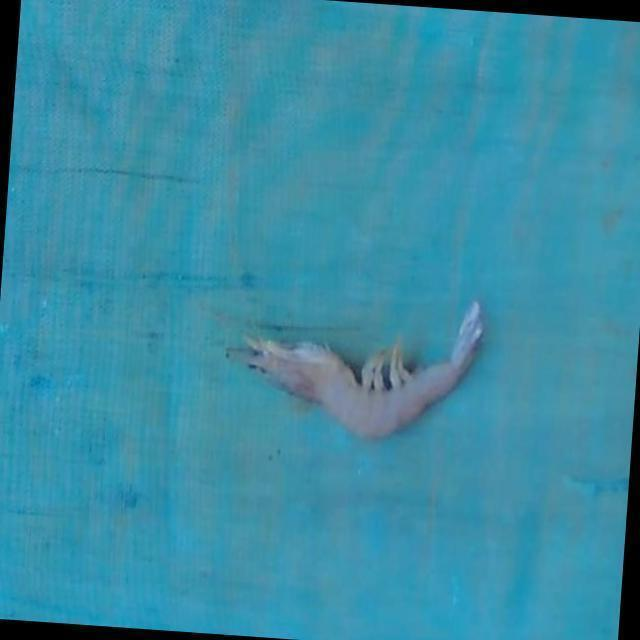shrimp: (246, 302, 484, 437)
